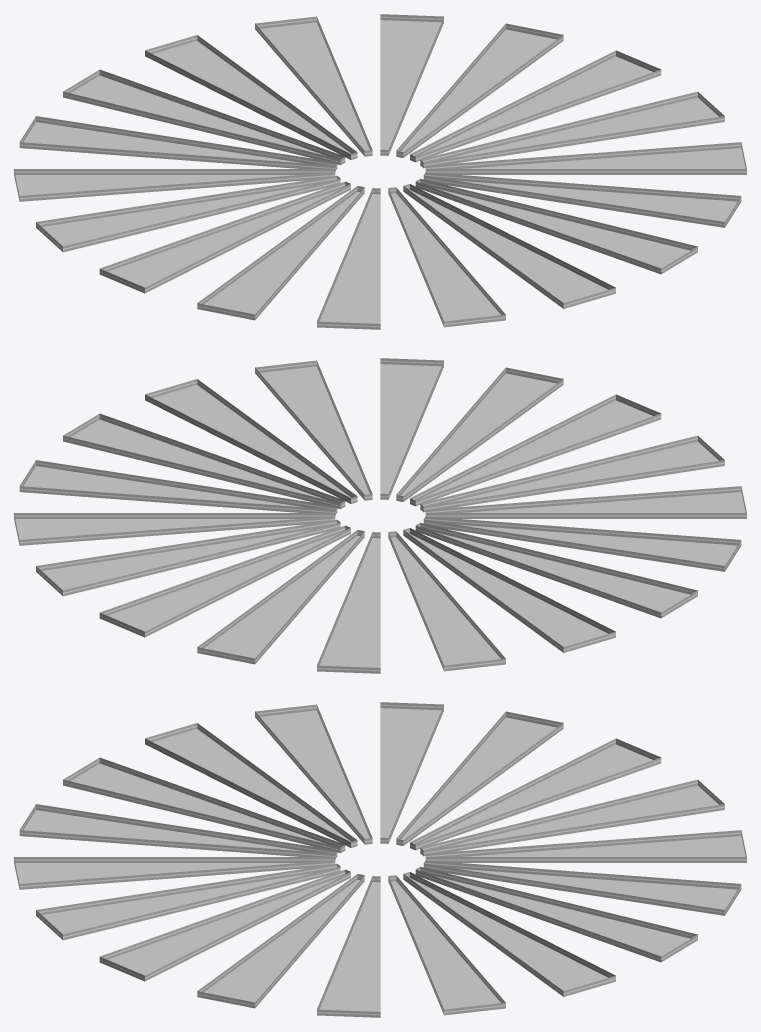
The model's file is CeilingCenter03_1.FBX.
The picture shows the model from 3 angles, top to bottom: view 1: azimuth 30°, elevation 25°; view 2: azimuth 150°, elevation 25°; view 3: azimuth 270°, elevation 25°; orthographic projection.
Parts seen in each view (by area): view 1: CeilingCenter03_1; view 2: CeilingCenter03_1; view 3: CeilingCenter03_1.
Boxes of the visible parts, <box> form: CeilingCenter03_1: <box>14,14,746,329</box>; CeilingCenter03_1: <box>14,358,746,673</box>; CeilingCenter03_1: <box>14,702,746,1017</box>.
Bounding box in the file's own units: 28000 × 250 × 28000.
